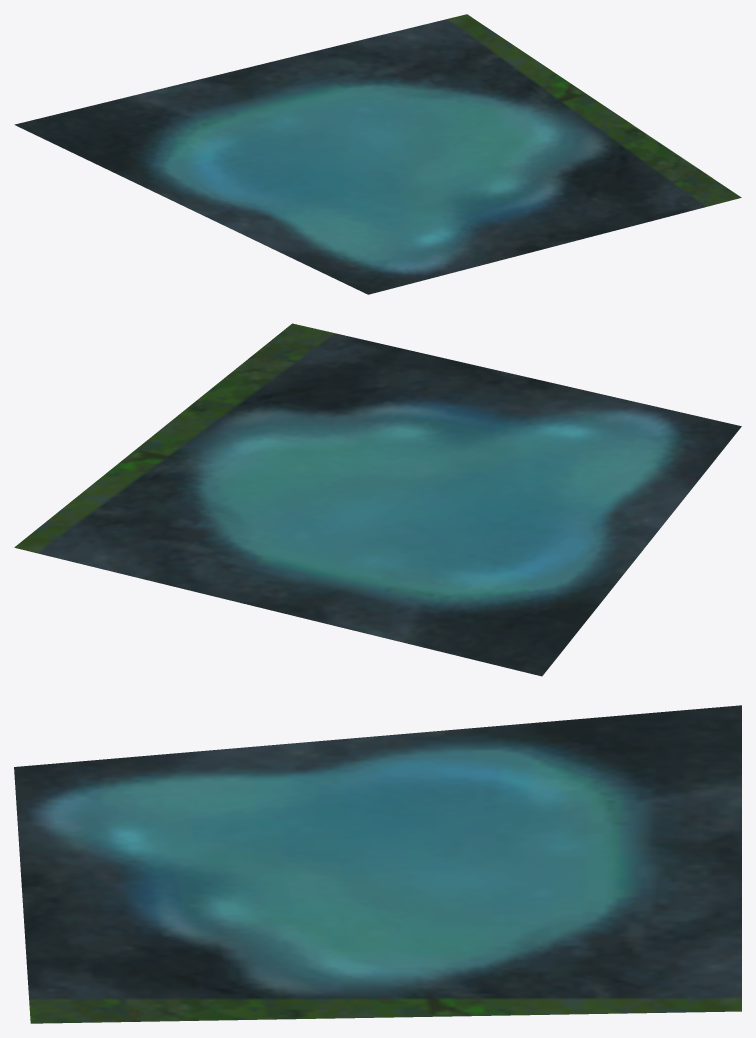
File: stemple_puddle_03.fbx
3 views of the same model, one above another, from view 1: azimuth 30°, elevation 25°; view 2: azimuth 150°, elevation 25°; view 3: azimuth 270°, elevation 25° (orthographic). The views are drawn at different scales.
Parts seen in each view (by area): view 1: obj0.383; view 2: obj0.383; view 3: obj0.383.
Boxes of the visible parts, left/top/right/bottom form: obj0.383: left=14, top=14, right=741, bottom=294; obj0.383: left=14, top=323, right=741, bottom=676; obj0.383: left=14, top=705, right=741, bottom=1023.
Bounding box in the file's own units: 1.75 × 4.23e-07 × 1.69.
